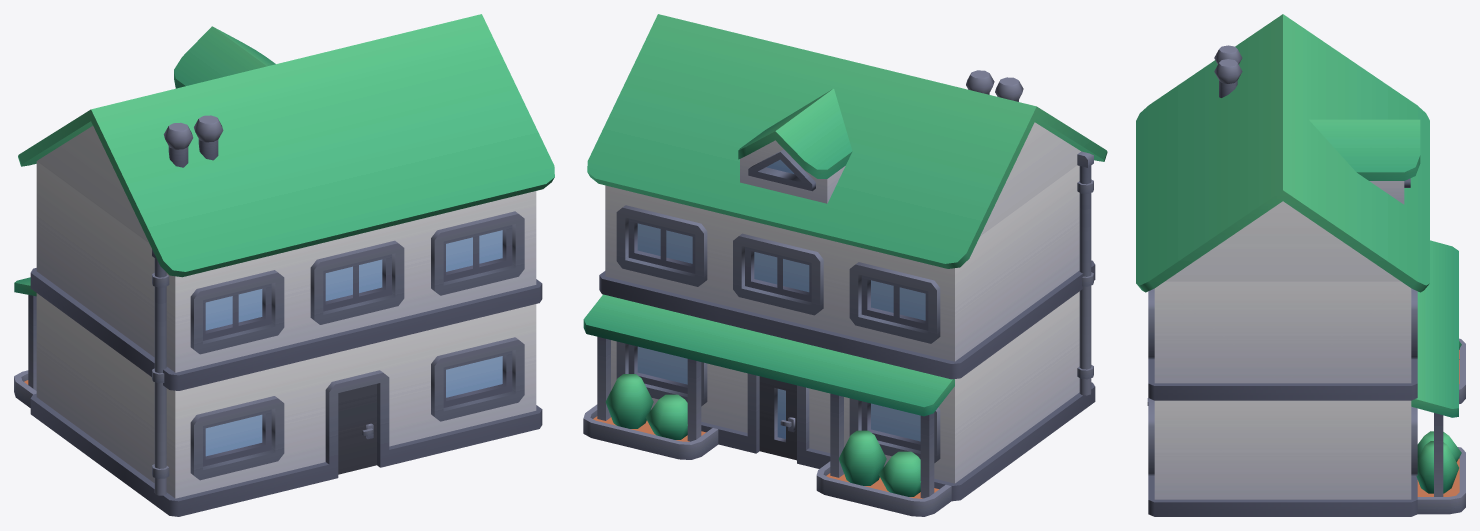
Rendered from suburban-building-type-e.glb.
3 renders of one model, left to right at view 1: azimuth 30°, elevation 25°; view 2: azimuth 150°, elevation 25°; view 3: azimuth 270°, elevation 25°, orthographic. The views are drawn at different scales.
Visible parts, largest first — view 1: building-type-e; view 2: building-type-e; view 3: building-type-e.
Boxes of the visible parts, x1,y1,x2,y2 form: building-type-e: (14, 14, 554, 516); building-type-e: (583, 14, 1107, 516); building-type-e: (1136, 14, 1465, 516).
Size of the model in its own units: 1.3 by 1.14 by 1.03.
Materials: 1 (1 with a texture image).
